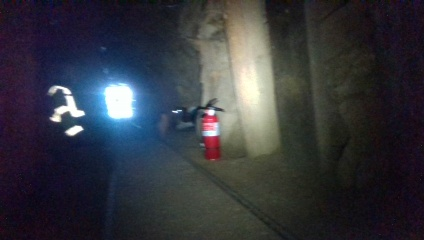fire_extinguisher: (191, 98, 228, 160)
manikin: (45, 65, 101, 156)
